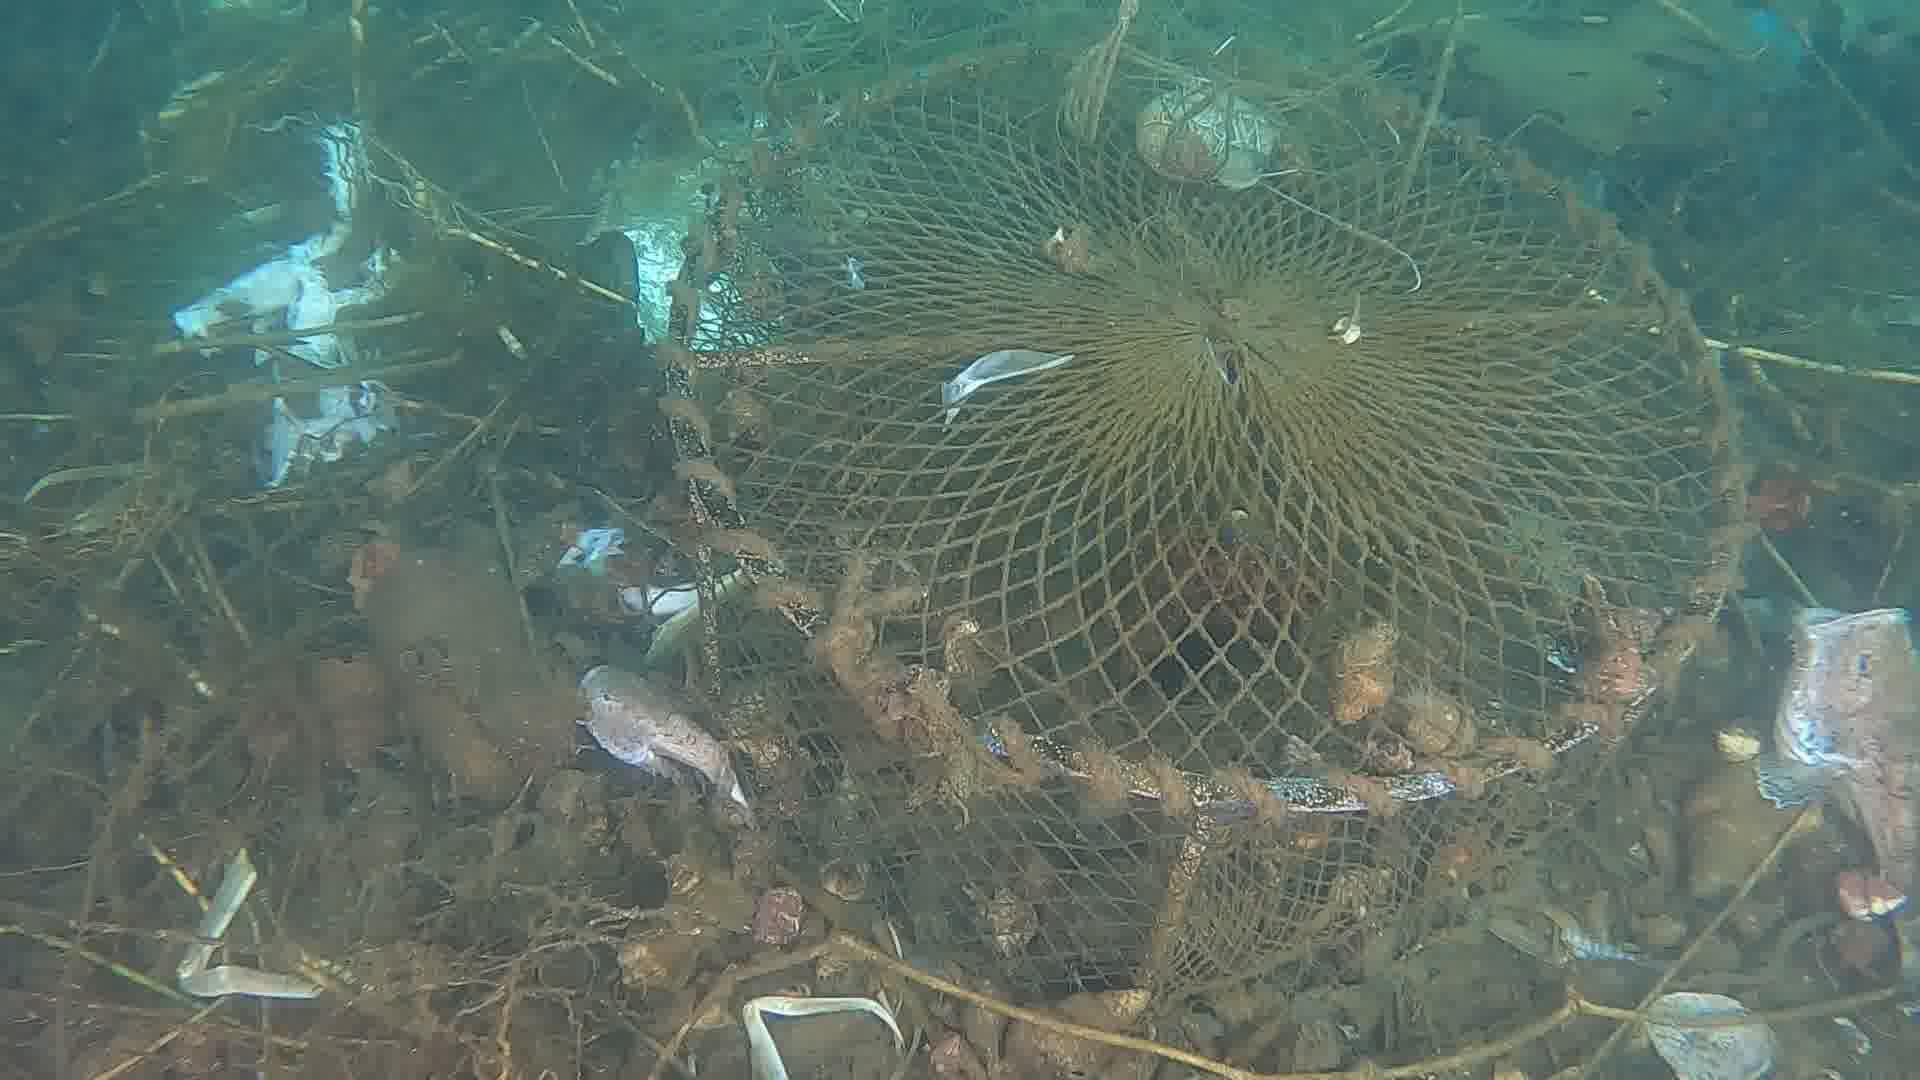circular fish trap: (658, 32, 1753, 1033)
